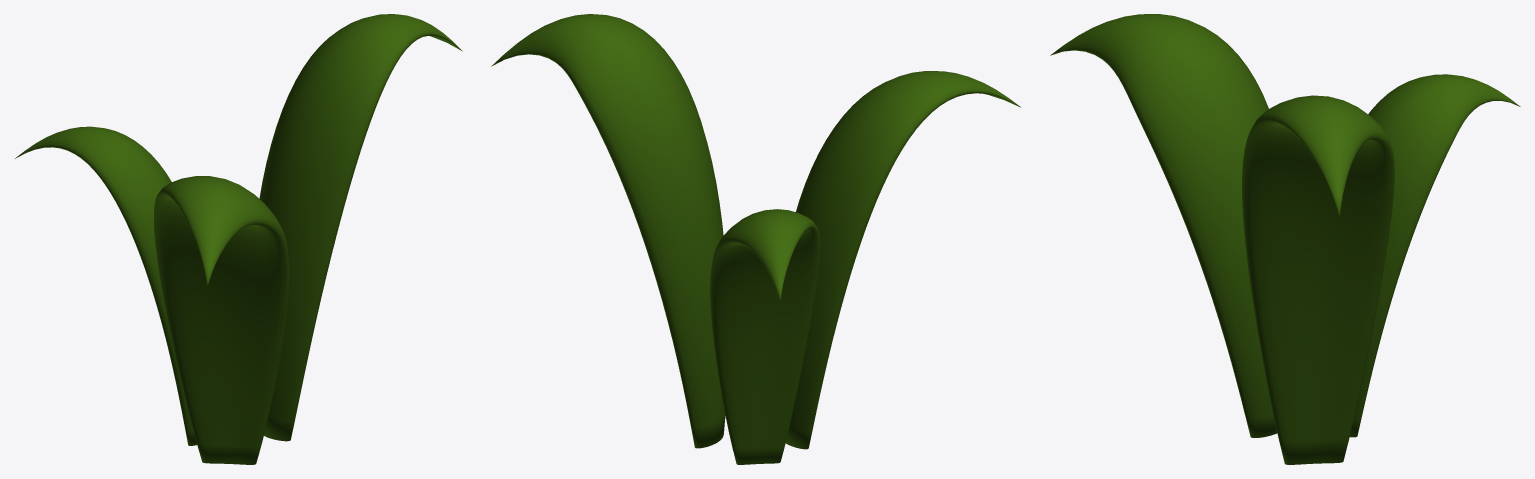
Rendered from bank_satin_grass.glb.
3 views of the same model, side by side, from view 1: azimuth 30°, elevation 25°; view 2: azimuth 150°, elevation 25°; view 3: azimuth 270°, elevation 25° (orthographic). The views are drawn at different scales.
Parts seen in each view (by area): view 1: SM_BankSatinGrass; view 2: SM_BankSatinGrass; view 3: SM_BankSatinGrass.
Part boxes in pixels (left/top/right/bottom): SM_BankSatinGrass: left=15, top=14, right=462, bottom=464; SM_BankSatinGrass: left=491, top=14, right=1020, bottom=464; SM_BankSatinGrass: left=1050, top=14, right=1520, bottom=464.
Size of the model in its own units: 0.4783 by 0.452 by 0.4595.
